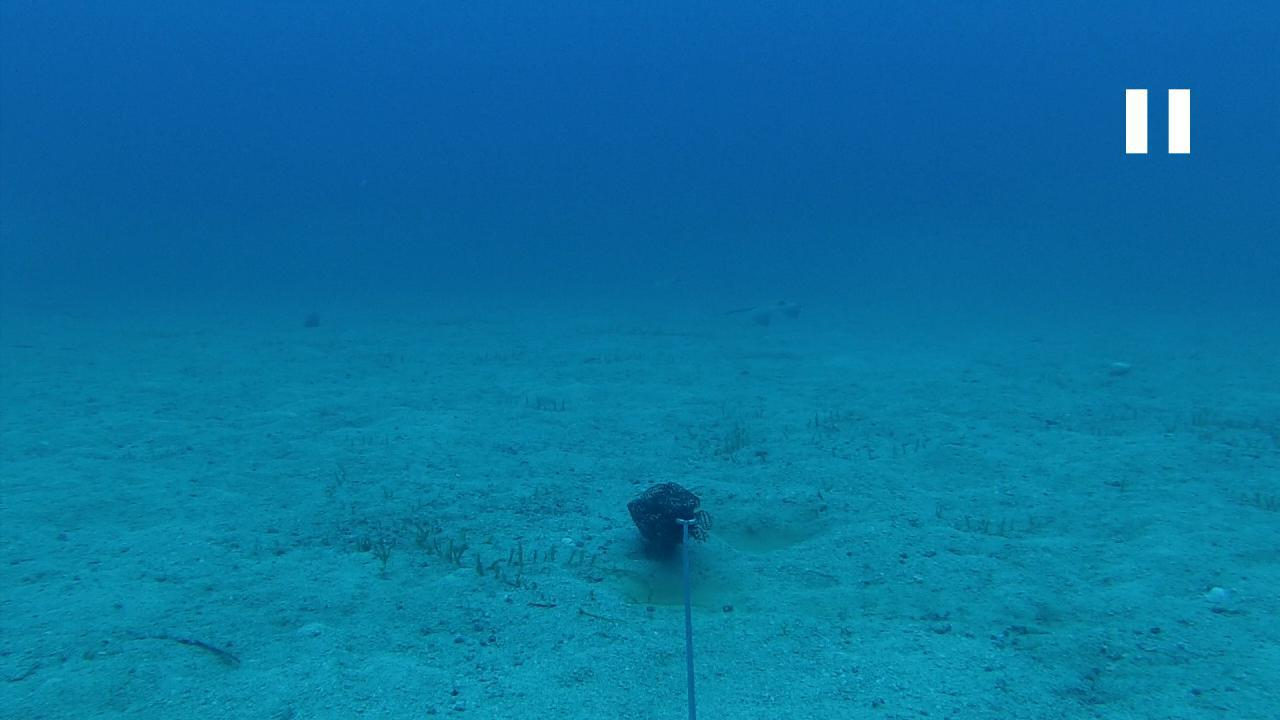bothus: (125, 624, 241, 664)
dasyatis: (729, 300, 802, 328)
